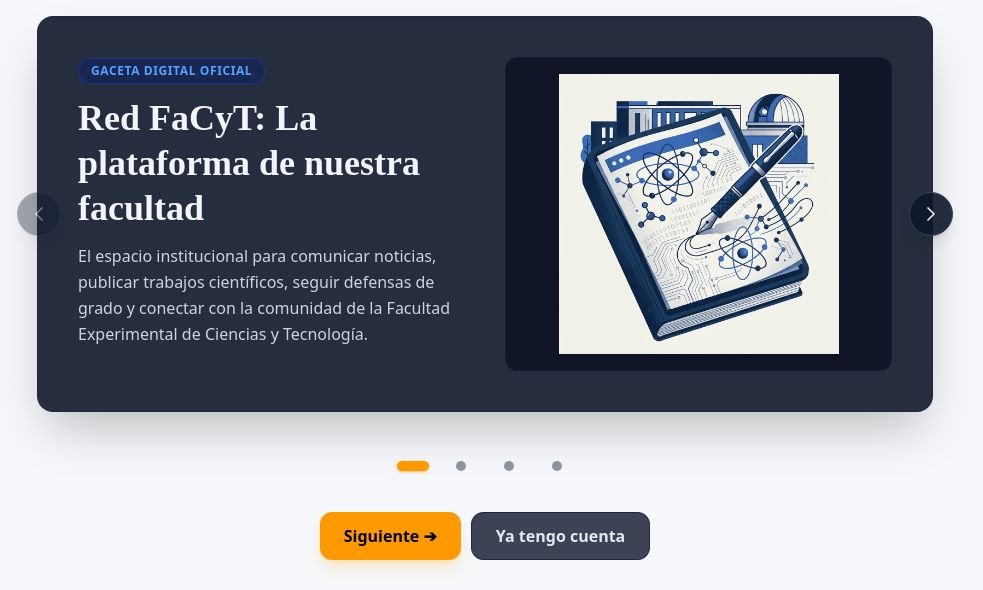
it: LandingSlider › handles touch swipe left and right gestures
Press the mouse on the element named "Presentación de características de Red FaCyT": x=492, y=288 [17, 16, 966, 560]
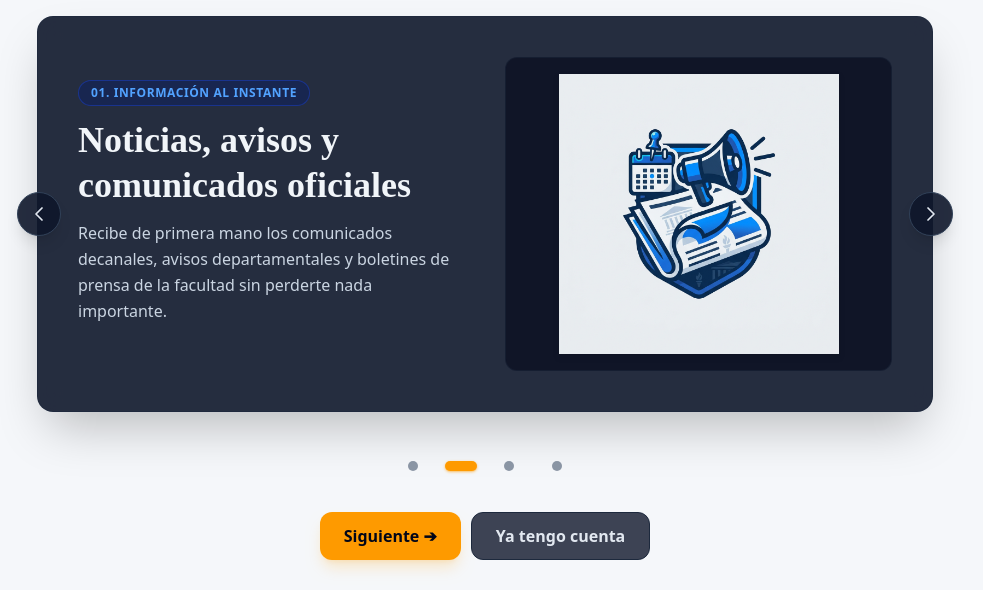
Expected: the heading "Noticias, avisos y comunicados oficiales" is shown, [78, 118, 465, 208]
Press the mouse on the element named "Presentación de características de Red FaCyT": x=485, y=288 [17, 16, 953, 560]
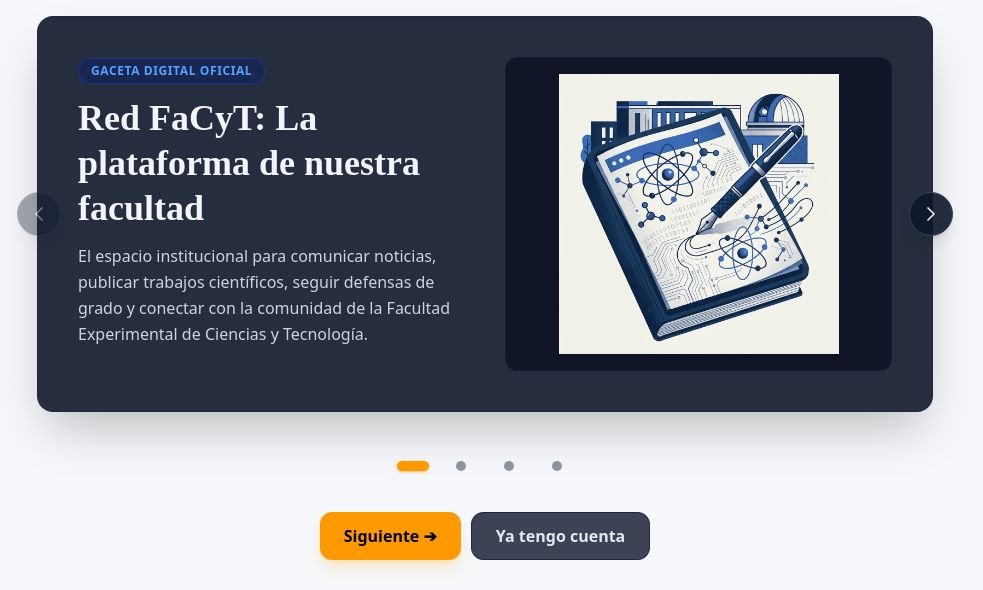
Expected: the heading "Red FaCyT: La plataforma de nuestra facultad" is shown, [78, 96, 465, 230]
